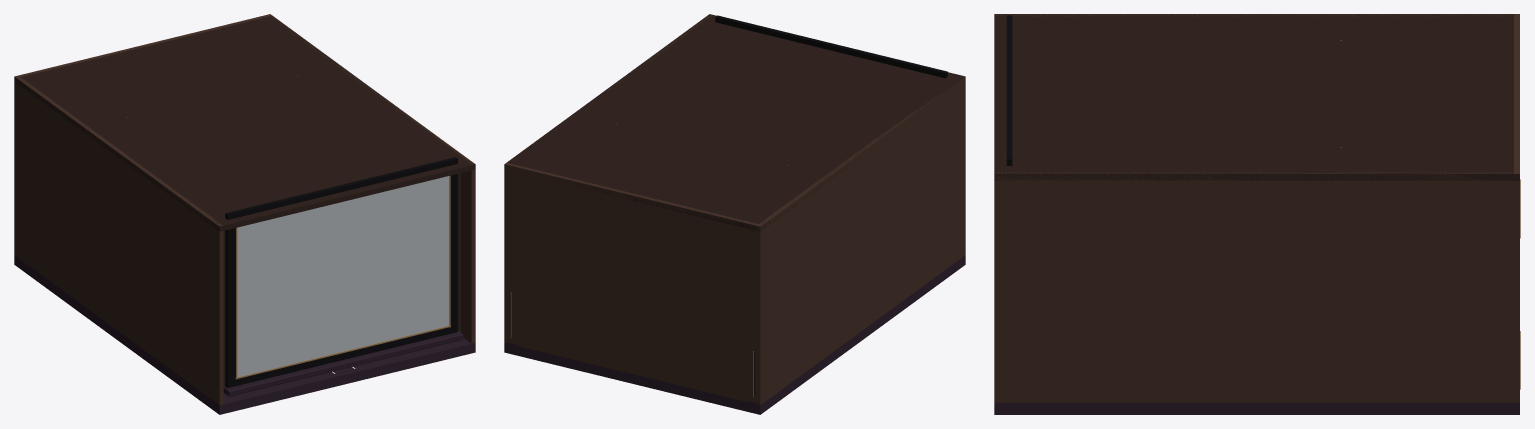
The model's file is LuxuryTheater.fbx.
The picture shows the model from 3 angles, left to right: view 1: azimuth 30°, elevation 25°; view 2: azimuth 150°, elevation 25°; view 3: azimuth 270°, elevation 25°; orthographic projection. The views are drawn at different scales.
Visible parts, largest first — view 1: Ceiling, Left Wall, IMAX 1.43 Screen, IMAX Black Screen Surround, Auditorium Base, Right Wall, Screen Stage, Rear Wall, Front Acoustic Wall, Screen Gold Horizontal; view 2: Ceiling, Rear Wall, Left Wall, Auditorium Base, IMAX Black Screen Surround; view 3: Right Wall, Ceiling, Auditorium Base, Rear Wall, IMAX Black Screen Surround, Left Wall.
Part boxes in pixels (x1,y1,x2,y2): Ceiling: (14,15,475,231); Left Wall: (14,77,223,405); IMAX 1.43 Screen: (237,176,449,377); IMAX Black Screen Surround: (225,157,457,388); Auditorium Base: (14,255,475,414); Right Wall: (270,16,475,343); Screen Stage: (223,330,463,396); Rear Wall: (14,14,271,256); Front Acoustic Wall: (223,173,460,386); Screen Gold Horizontal: (235,325,450,378); Ceiling: (507,14,965,231); Rear Wall: (504,162,762,404); Left Wall: (756,76,965,405); Auditorium Base: (504,255,965,414); IMAX Black Screen Surround: (715,15,947,78); Right Wall: (994,171,1519,402); Ceiling: (994,14,1519,180); Auditorium Base: (994,402,1519,414); Rear Wall: (1514,14,1519,402); IMAX Black Screen Surround: (1006,15,1012,165); Left Wall: (994,14,1512,16).
Bounding box in the file's own units: 3600 × 2600 × 5008.
